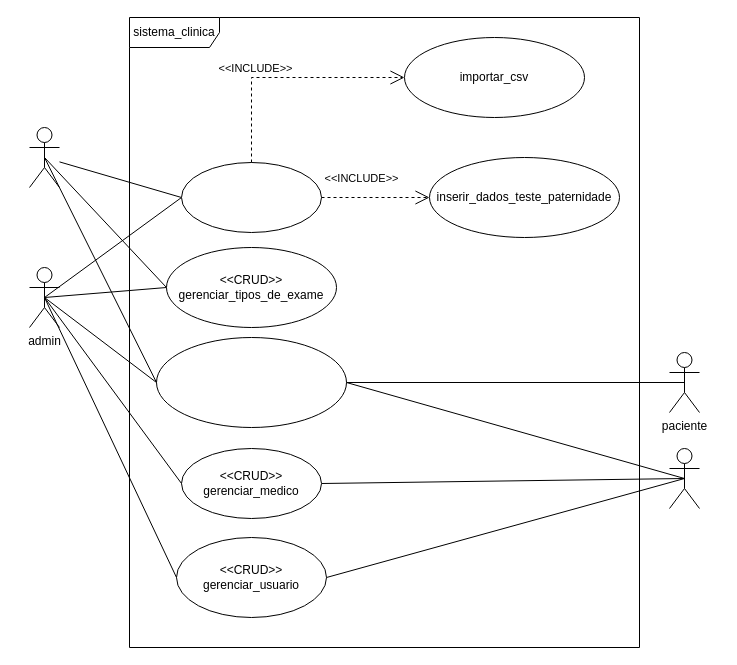
This 737x665 diagram has some shape labels left out. The shapes that lost their labels are listed below. From the top down, each one's box as (x1, y1, x2, y2) in pixels, then its label:
(28, 126, 60, 188): biomedico
(180, 162, 322, 232): gerar_laudo
(156, 336, 346, 428): <<CRUD>> gerenciar_pedido_do_exame
(668, 448, 700, 508): recepcionista
